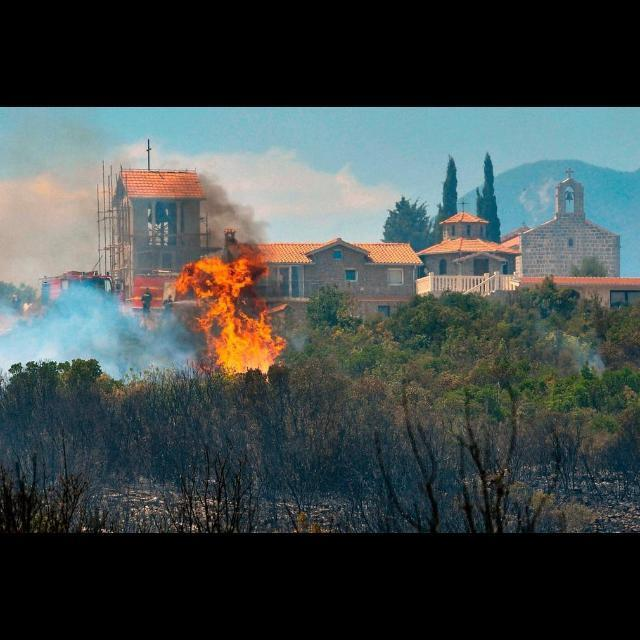Fire: (173, 243, 287, 383)
Smoke: (1, 284, 201, 388), (197, 174, 271, 264), (576, 350, 604, 380)
